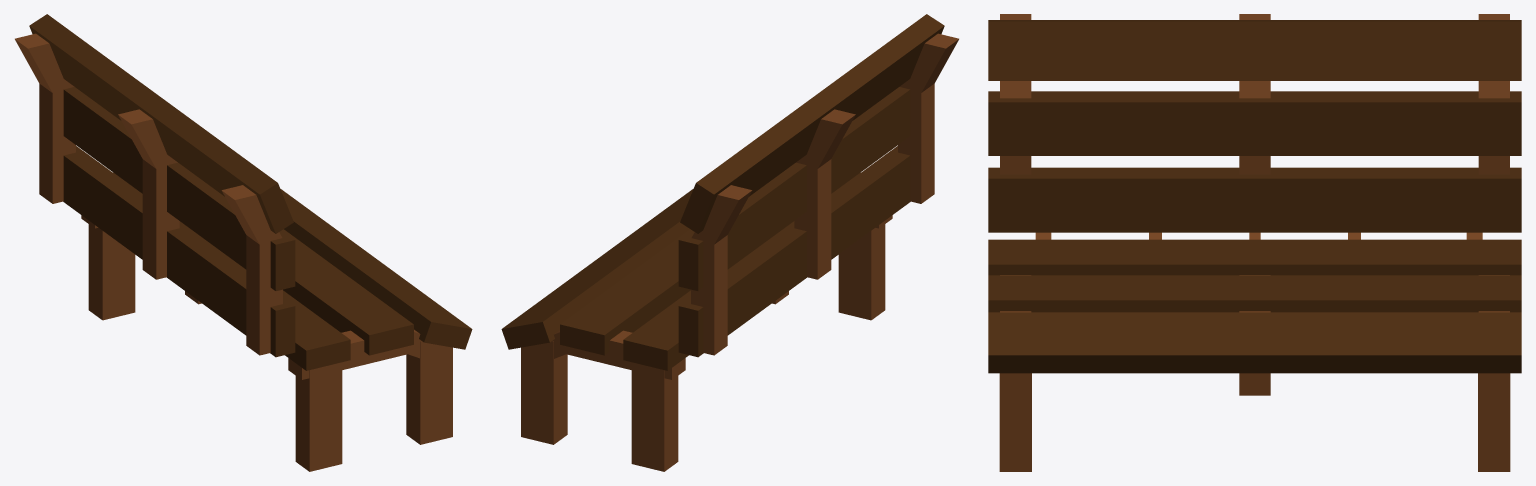
Rendered from chairmidterm.fbx.
The picture shows the model from 3 angles, left to right: view 1: azimuth 30°, elevation 25°; view 2: azimuth 150°, elevation 25°; view 3: azimuth 270°, elevation 25°; orthographic projection. The views are drawn at different scales.
Parts seen in each view (by area): view 1: Cube.015; view 2: Cube.015; view 3: Cube.015.
Part boxes in pixels (<box>): Cube.015: <box>15,14,472,471</box>; Cube.015: <box>501,14,958,471</box>; Cube.015: <box>988,14,1521,471</box>.
Size of the model in its own units: 519 by 643 by 892.
